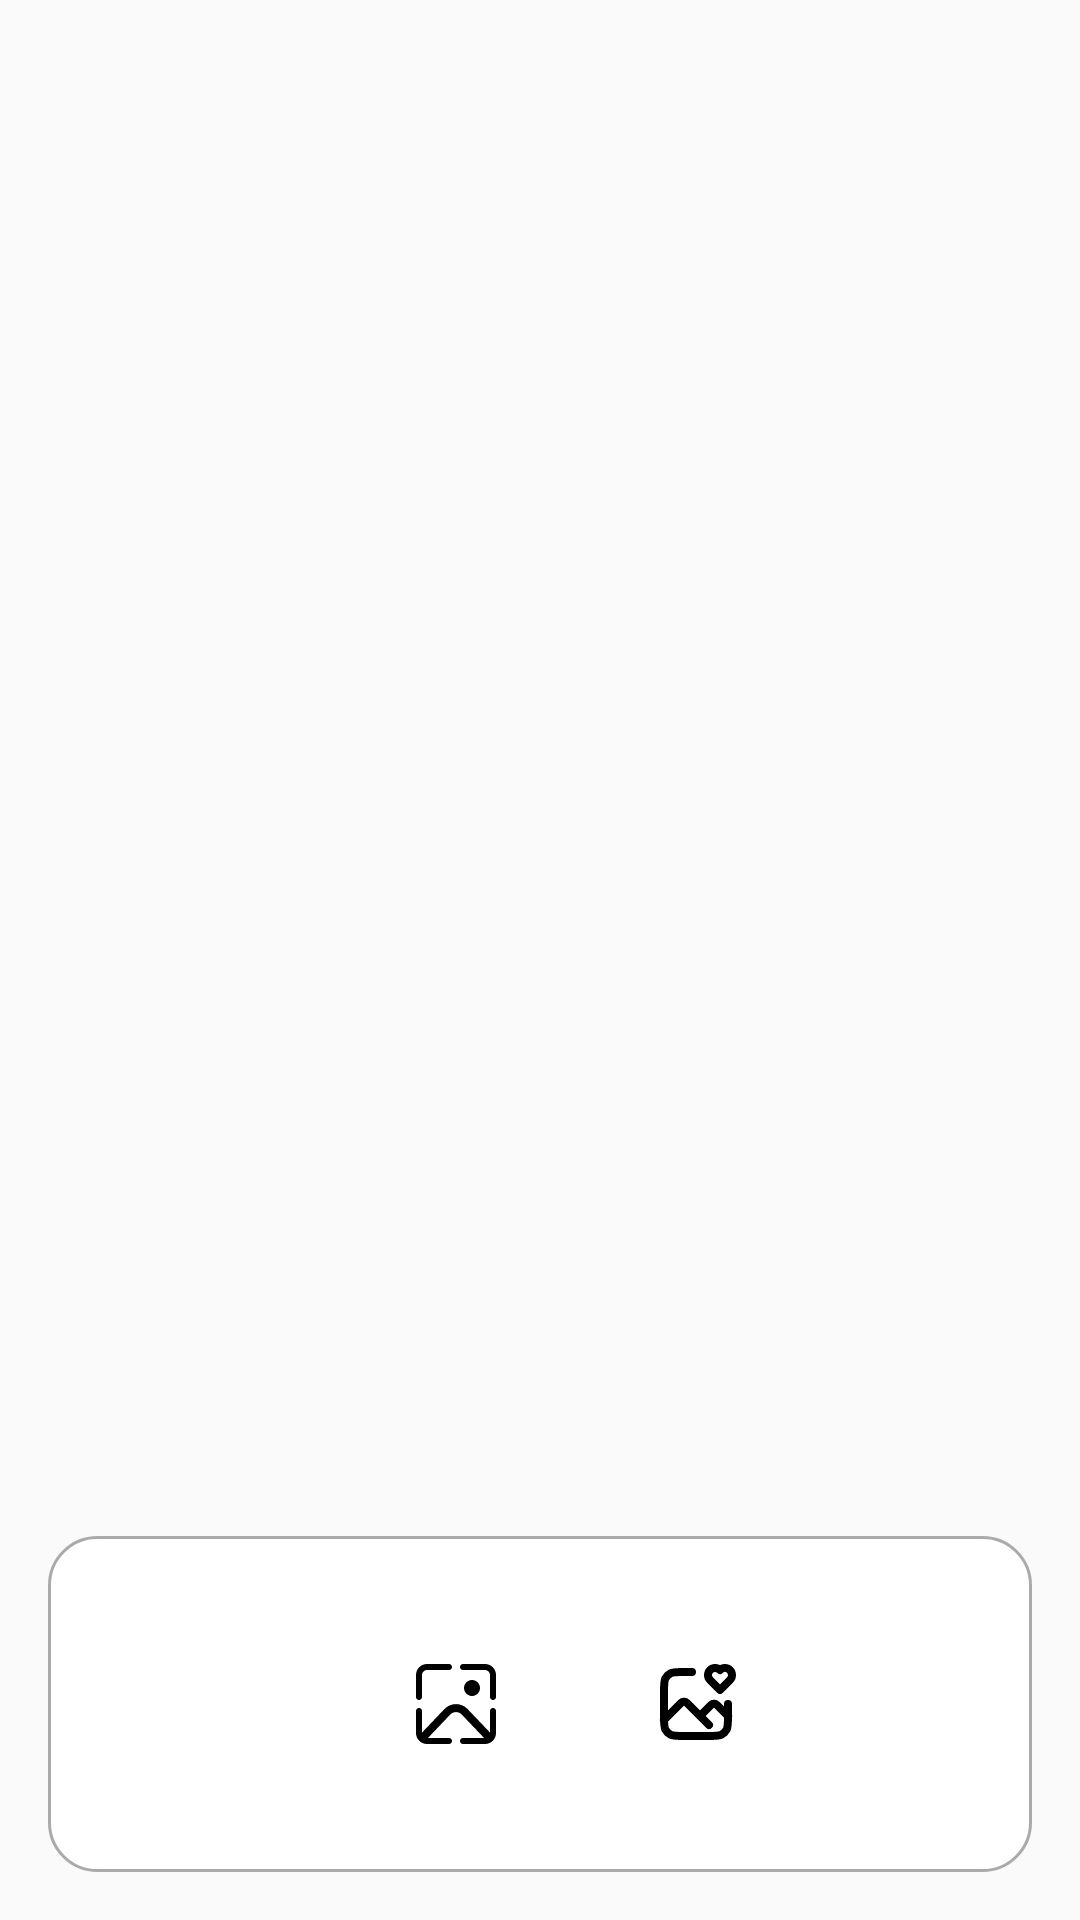

Icon bounding boxes for this 1080w x 1920h phone screenshot, format [x1, y1, x2, y2]:
favourite: [659, 1664, 736, 1740]
